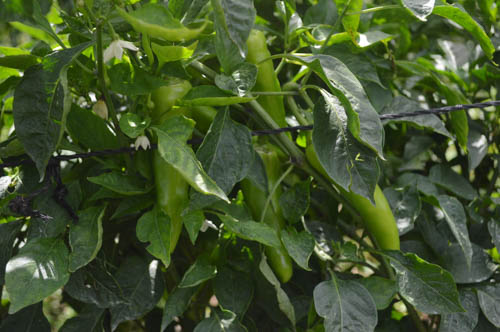ChiliPepper: (308, 128, 403, 257), (153, 81, 193, 257), (245, 148, 292, 282), (245, 30, 287, 137)
